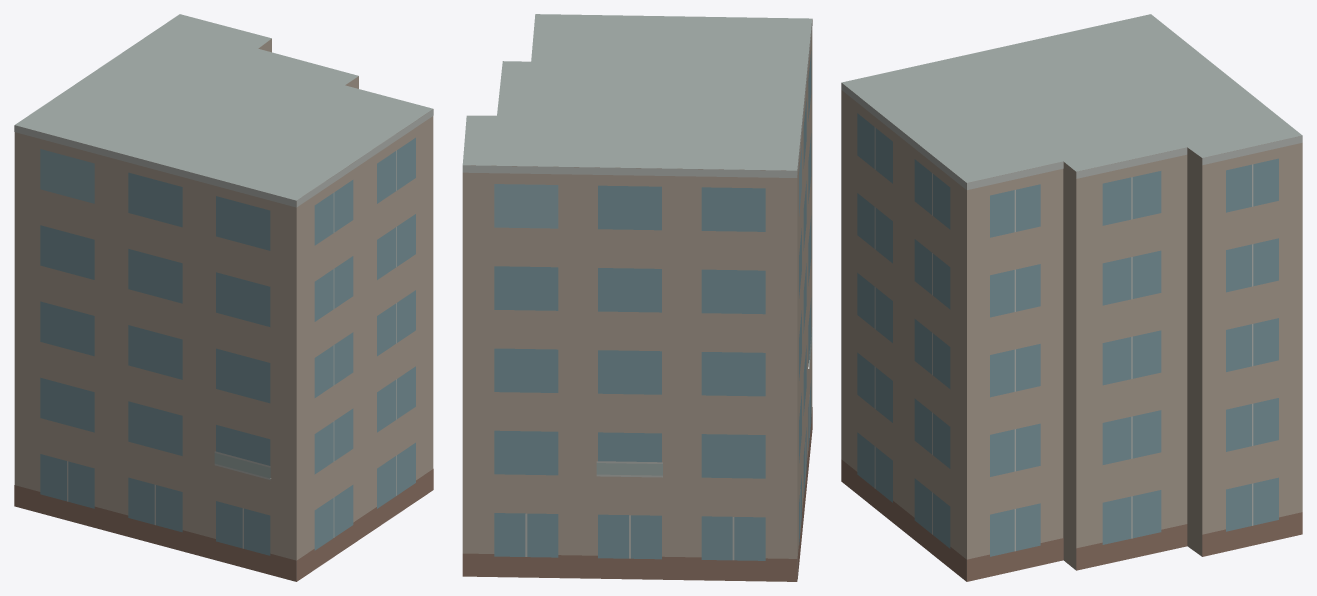
Rendered from survey-upis-33014714.glb.
The picture shows the model from 3 angles, left to right: view 1: azimuth 30°, elevation 25°; view 2: azimuth 150°, elevation 25°; view 3: azimuth 270°, elevation 25°; orthographic projection. The views are drawn at different scales.
Parts seen in each view (by area): view 1: survey-upis-33014714.tmp; view 2: survey-upis-33014714.tmp; view 3: survey-upis-33014714.tmp.
Boxes of the visible parts, left/top/right/bottom form: survey-upis-33014714.tmp: left=14, top=14, right=433, bottom=581; survey-upis-33014714.tmp: left=462, top=14, right=812, bottom=581; survey-upis-33014714.tmp: left=841, top=14, right=1302, bottom=581.
Bounding box in the file's own units: 12.18 × 13.4 × 14.05.
